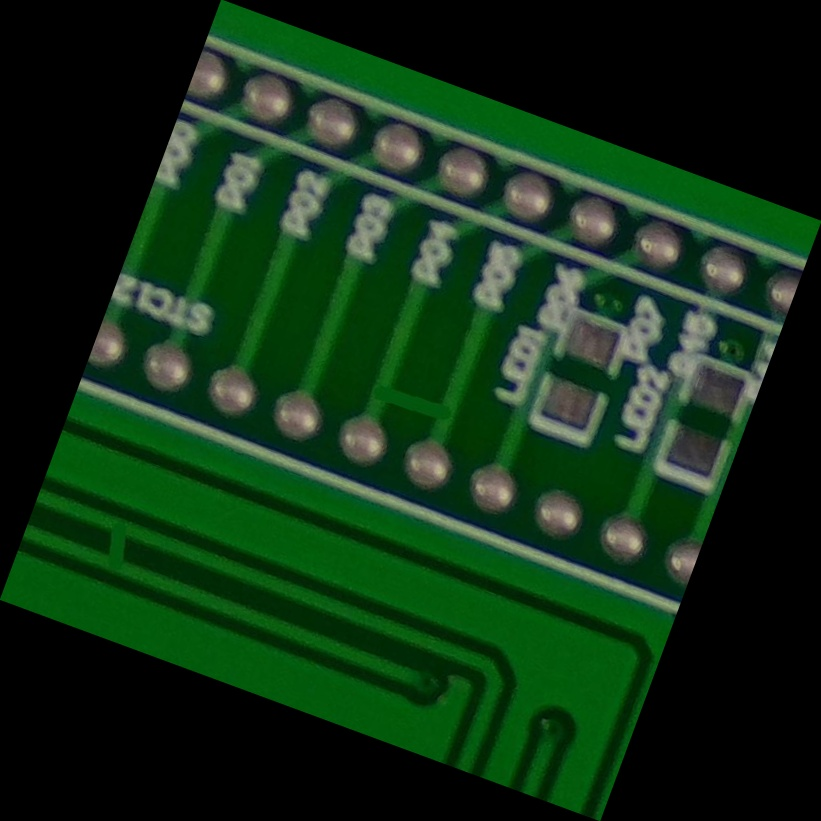short: (335, 342, 486, 481)
